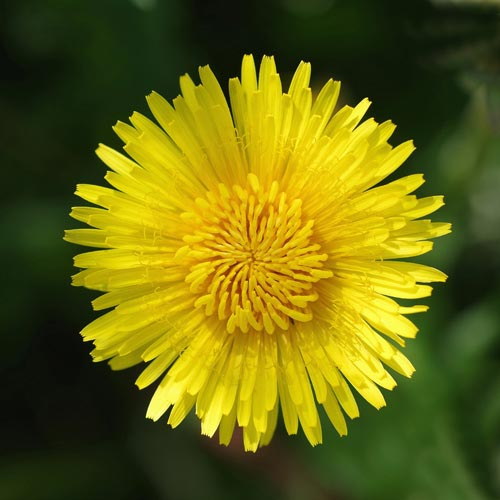dandelion: (64, 81, 444, 457)
